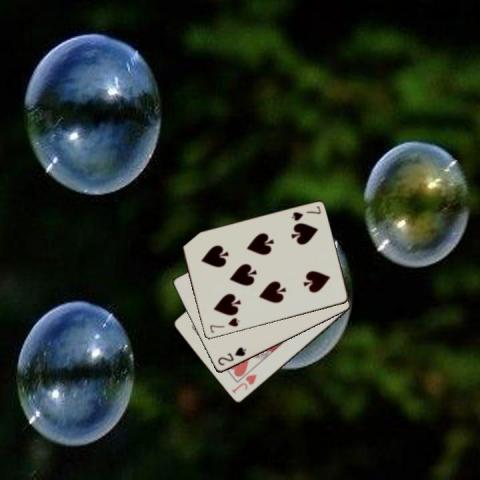2s: (215, 344, 248, 367)
7s: (206, 314, 241, 334), (288, 203, 322, 223)
Jh: (229, 372, 258, 396)
